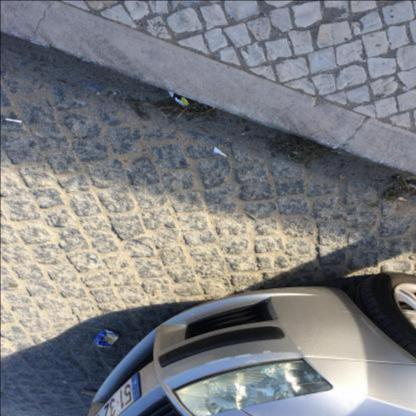Can: (93, 329, 119, 347)
Cigarette: (6, 118, 22, 123), (241, 130, 252, 136), (398, 196, 408, 201), (408, 183, 416, 188), (339, 174, 343, 180), (154, 293, 161, 296)
Other plastic: (213, 147, 226, 156)
Unlabeled litter: (168, 90, 189, 106)
